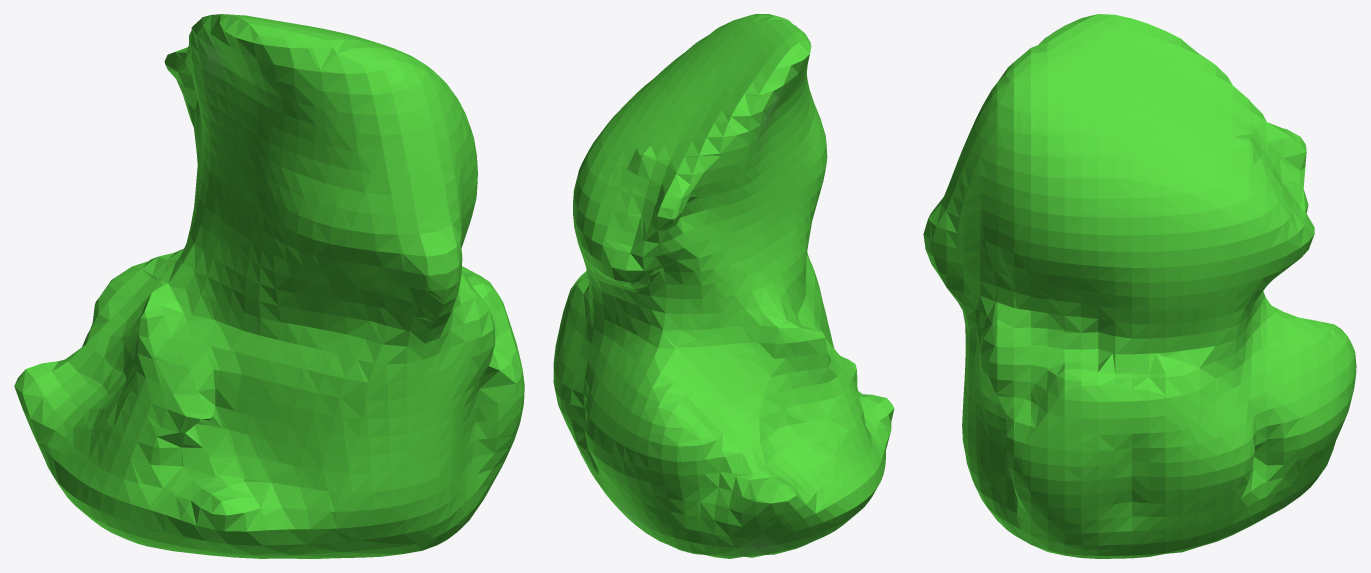
File: Cerebellum.fbx
3 views of the same model, side by side, from view 1: azimuth 30°, elevation 25°; view 2: azimuth 150°, elevation 25°; view 3: azimuth 270°, elevation 25° (orthographic). The views are drawn at different scales.
Visible parts, largest first — view 1: Cerebellum; view 2: Cerebellum; view 3: Cerebellum.
Part boxes in pixels (bbox=[...]): Cerebellum: bbox=[14, 14, 524, 558]; Cerebellum: bbox=[553, 14, 894, 558]; Cerebellum: bbox=[923, 14, 1356, 558].
Size of the model in its own units: 74.67 by 99.52 by 84.59.
